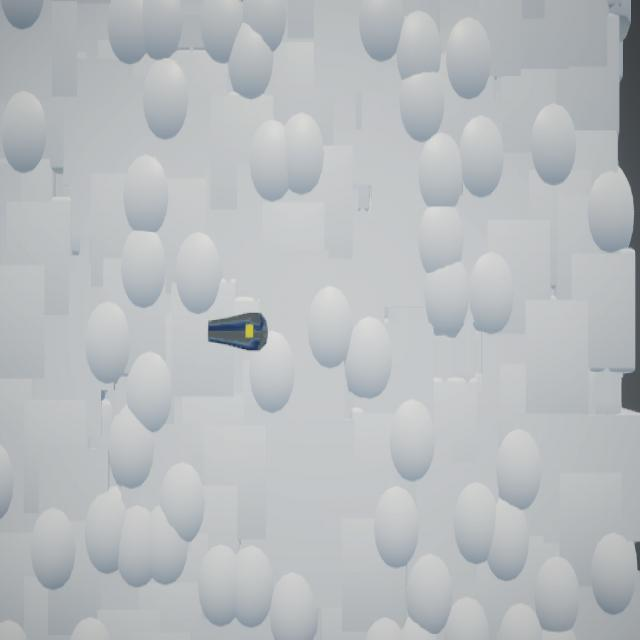handle_knife: (209, 314, 269, 352)
